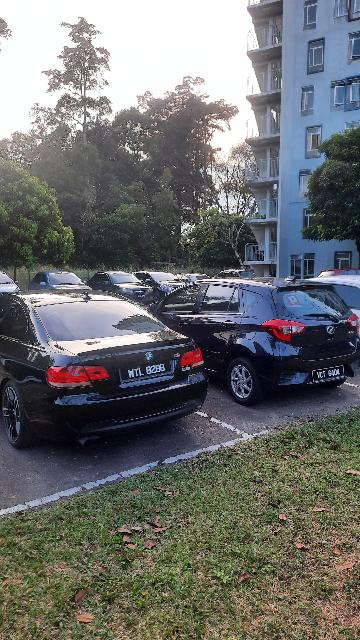License_Plate: (115, 358, 180, 384), (311, 362, 350, 386)
car: (1, 293, 211, 452), (169, 277, 360, 407)
